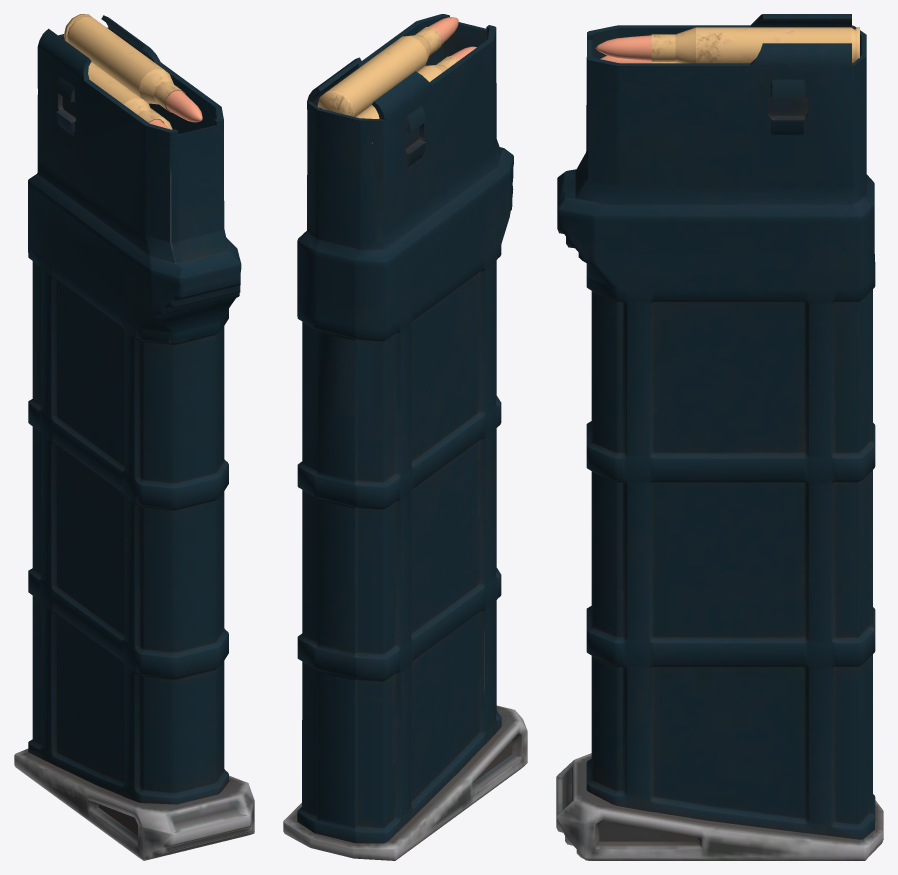
Rendered from Mag_762_40rnds_A.glb.
The picture shows the model from 3 angles, left to right: view 1: azimuth 30°, elevation 25°; view 2: azimuth 150°, elevation 25°; view 3: azimuth 270°, elevation 25°; orthographic projection. The views are drawn at different scales.
Visible parts, largest first — view 1: Mag_762_40rnds_A, Cartridge1.014, Cartridge2.014; view 2: Mag_762_40rnds_A, Cartridge1.014, Cartridge2.014; view 3: Mag_762_40rnds_A, Cartridge1.014.
Part boxes in pixels (x1=…): Mag_762_40rnds_A: x1=14, y1=15, x2=254, y2=860; Cartridge1.014: x1=63, y1=14, x2=202, y2=122; Cartridge2.014: x1=88, y1=62, x2=169, y2=129; Mag_762_40rnds_A: x1=283, y1=14, x2=527, y2=860; Cartridge1.014: x1=317, y1=17, x2=458, y2=116; Cartridge2.014: x1=355, y1=46, x2=476, y2=143; Mag_762_40rnds_A: x1=556, y1=14, x2=883, y2=860; Cartridge1.014: x1=595, y1=27, x2=859, y2=63.
Bounding box in the file's own units: 0.0405 × 0.2565 × 0.0942.
Materials: 2 (2 with a texture image).
